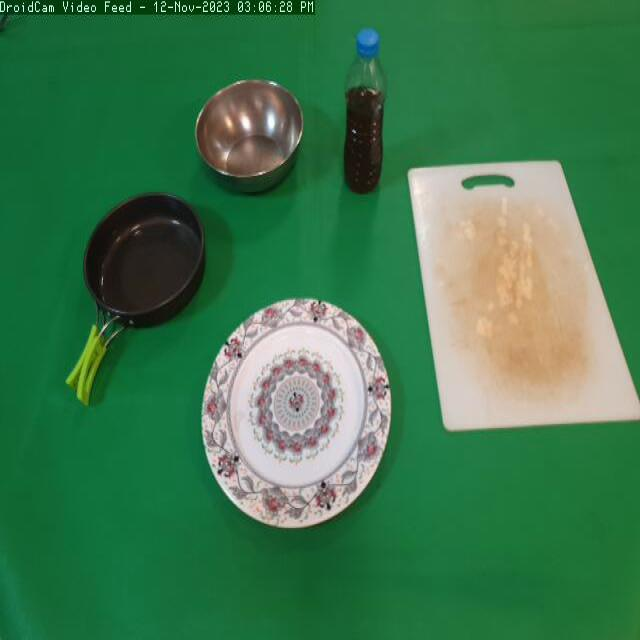bowl: (192, 75, 303, 198)
cutting board: (401, 136, 640, 456)
fullbottle: (336, 24, 397, 210)
pan: (54, 188, 210, 416)
plate: (198, 288, 398, 537)
